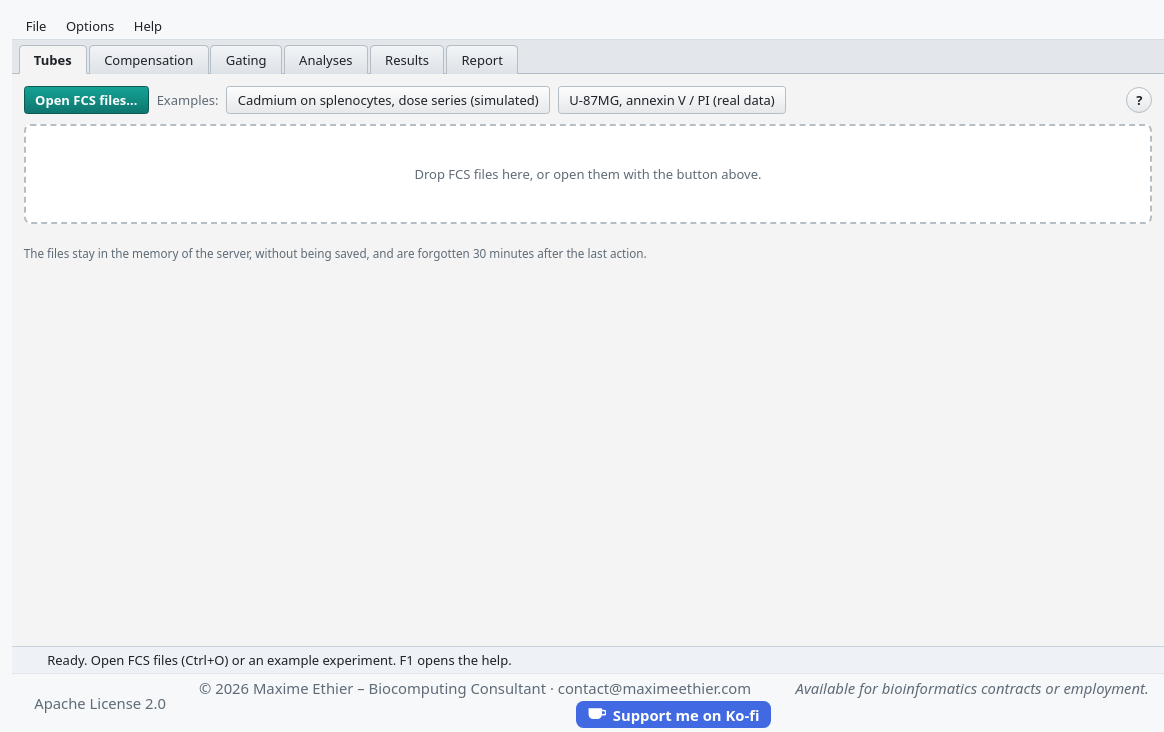
it: Results tab › draws a curve without untreated tube, and a comparison without spread
What coordinates should you click on to do the following:
click the button "Cadmium on splenocytes, dose series (simulated)"
I would click on:
 (388, 100)
Its box is [226, 86, 550, 114].
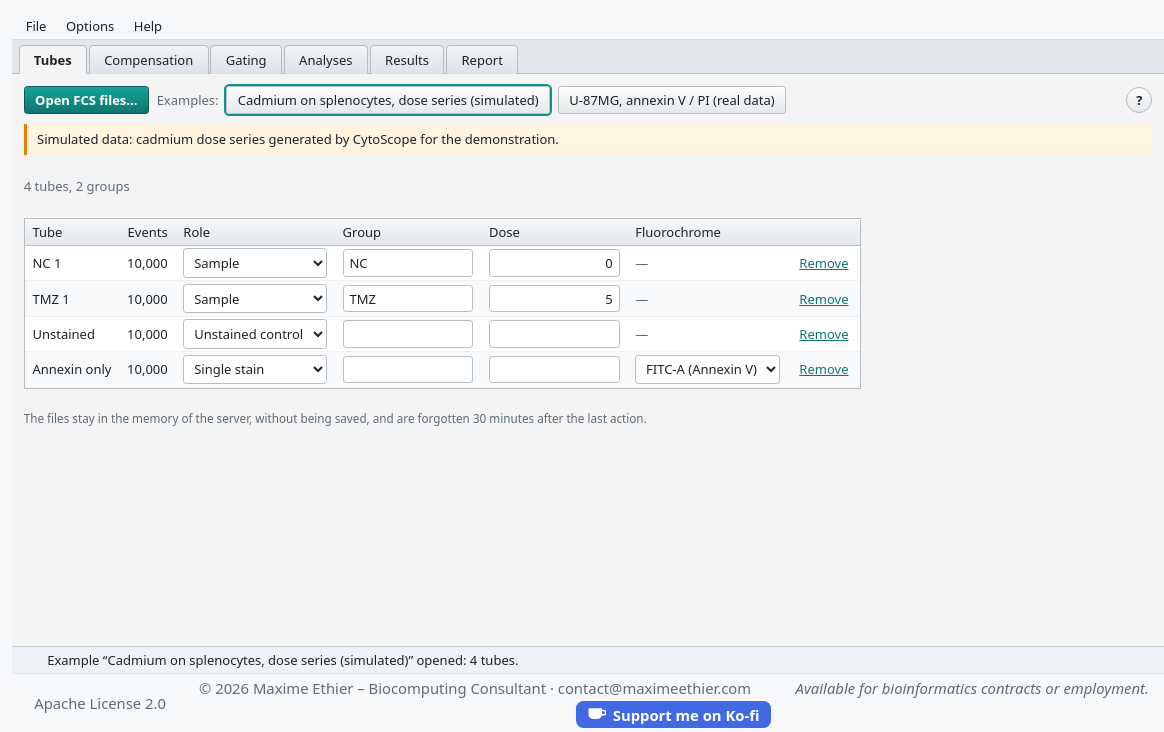
Expected: the table named "Tubes" is shown, [25, 219, 860, 388]
What coordinates should you click on to do the following:
click the tab "Results"
I would click on:
 (407, 60)
Its box is [370, 45, 444, 74].
(page scrolled)
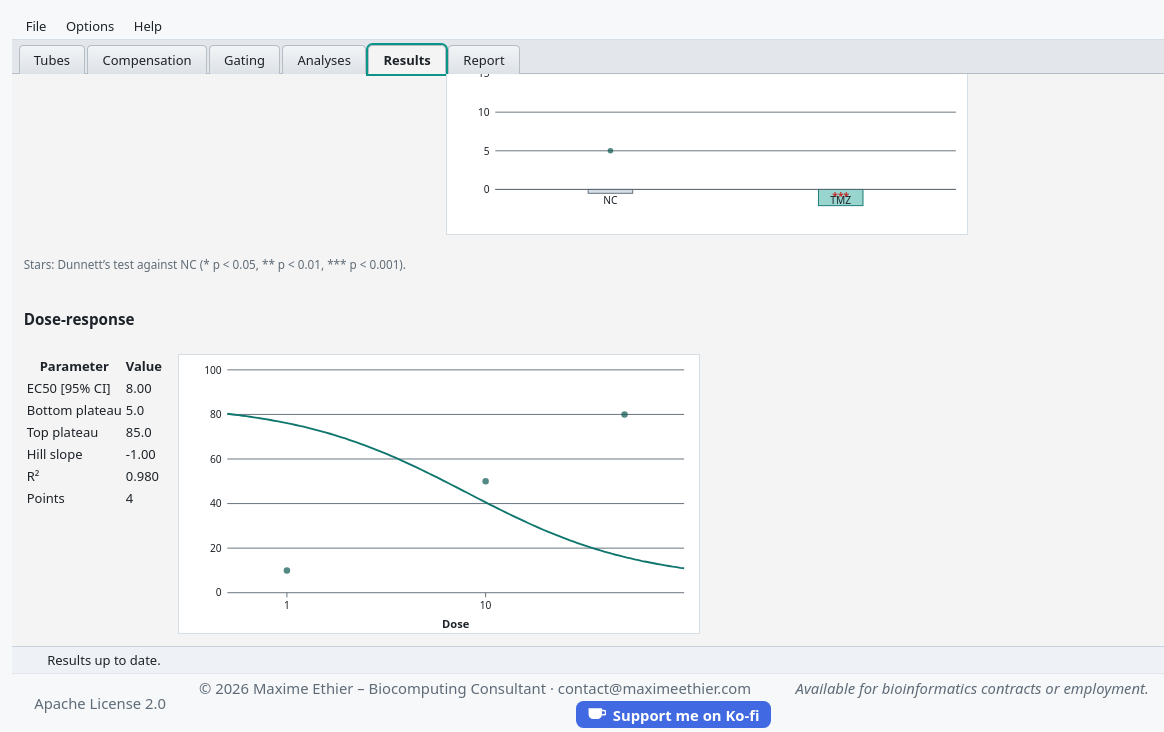
Expected: the table named "Dose-response" is shown, [24, 354, 165, 510]
